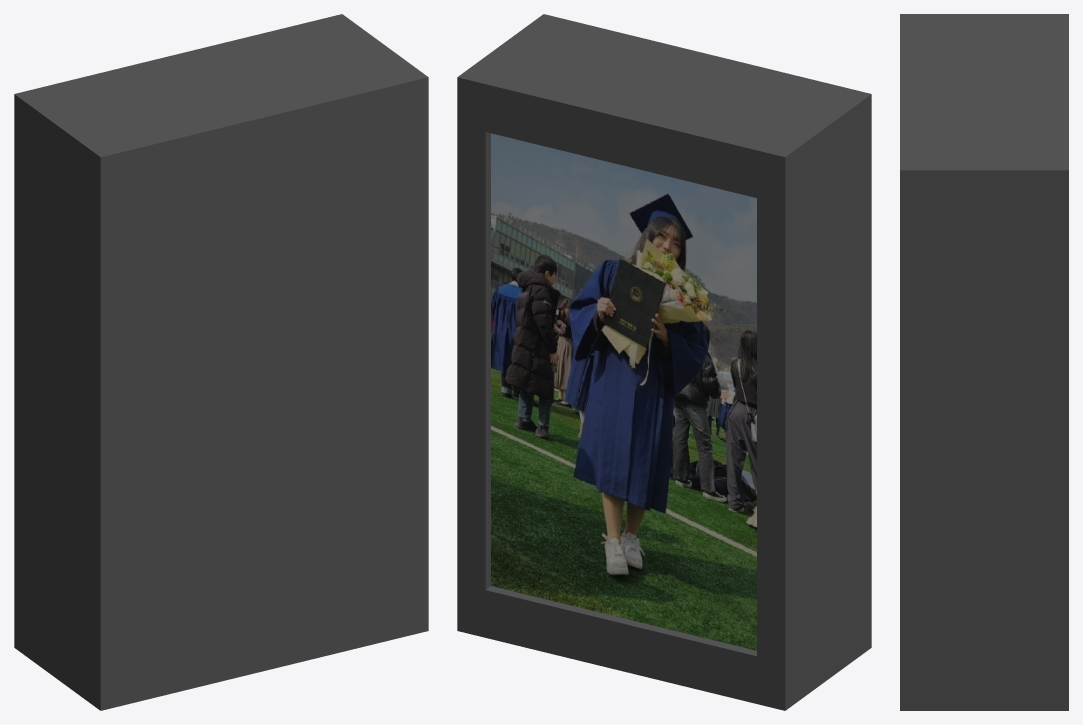
The picture shows the model from 3 angles, left to right: view 1: azimuth 30°, elevation 25°; view 2: azimuth 150°, elevation 25°; view 3: azimuth 270°, elevation 25°; orthographic projection. The views are drawn at different scales.
Visible parts, largest first — view 1: Cube; view 2: Cube; view 3: Cube.
Part boxes in pixels (bbox=[...]): Cube: bbox=[14, 14, 428, 710]; Cube: bbox=[457, 14, 871, 710]; Cube: bbox=[900, 14, 1068, 710].
Size of the model in its own units: 3.08 by 4.97 by 1.41.
2 materials, 1 textured.
